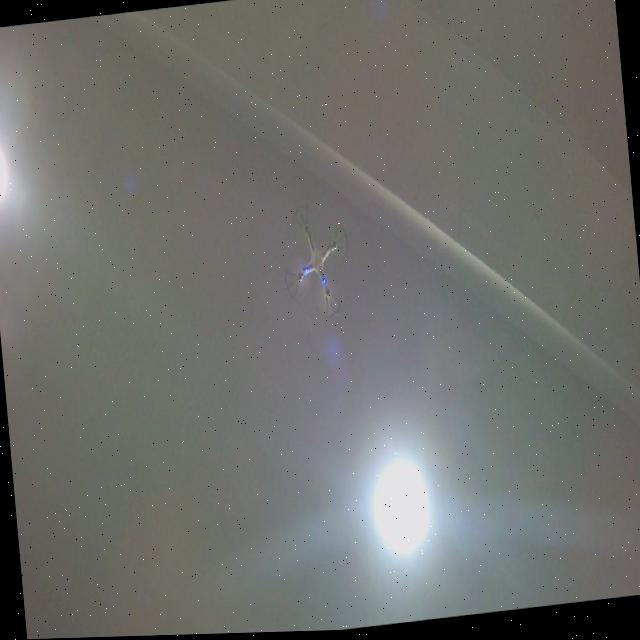drone: (276, 196, 358, 327)
